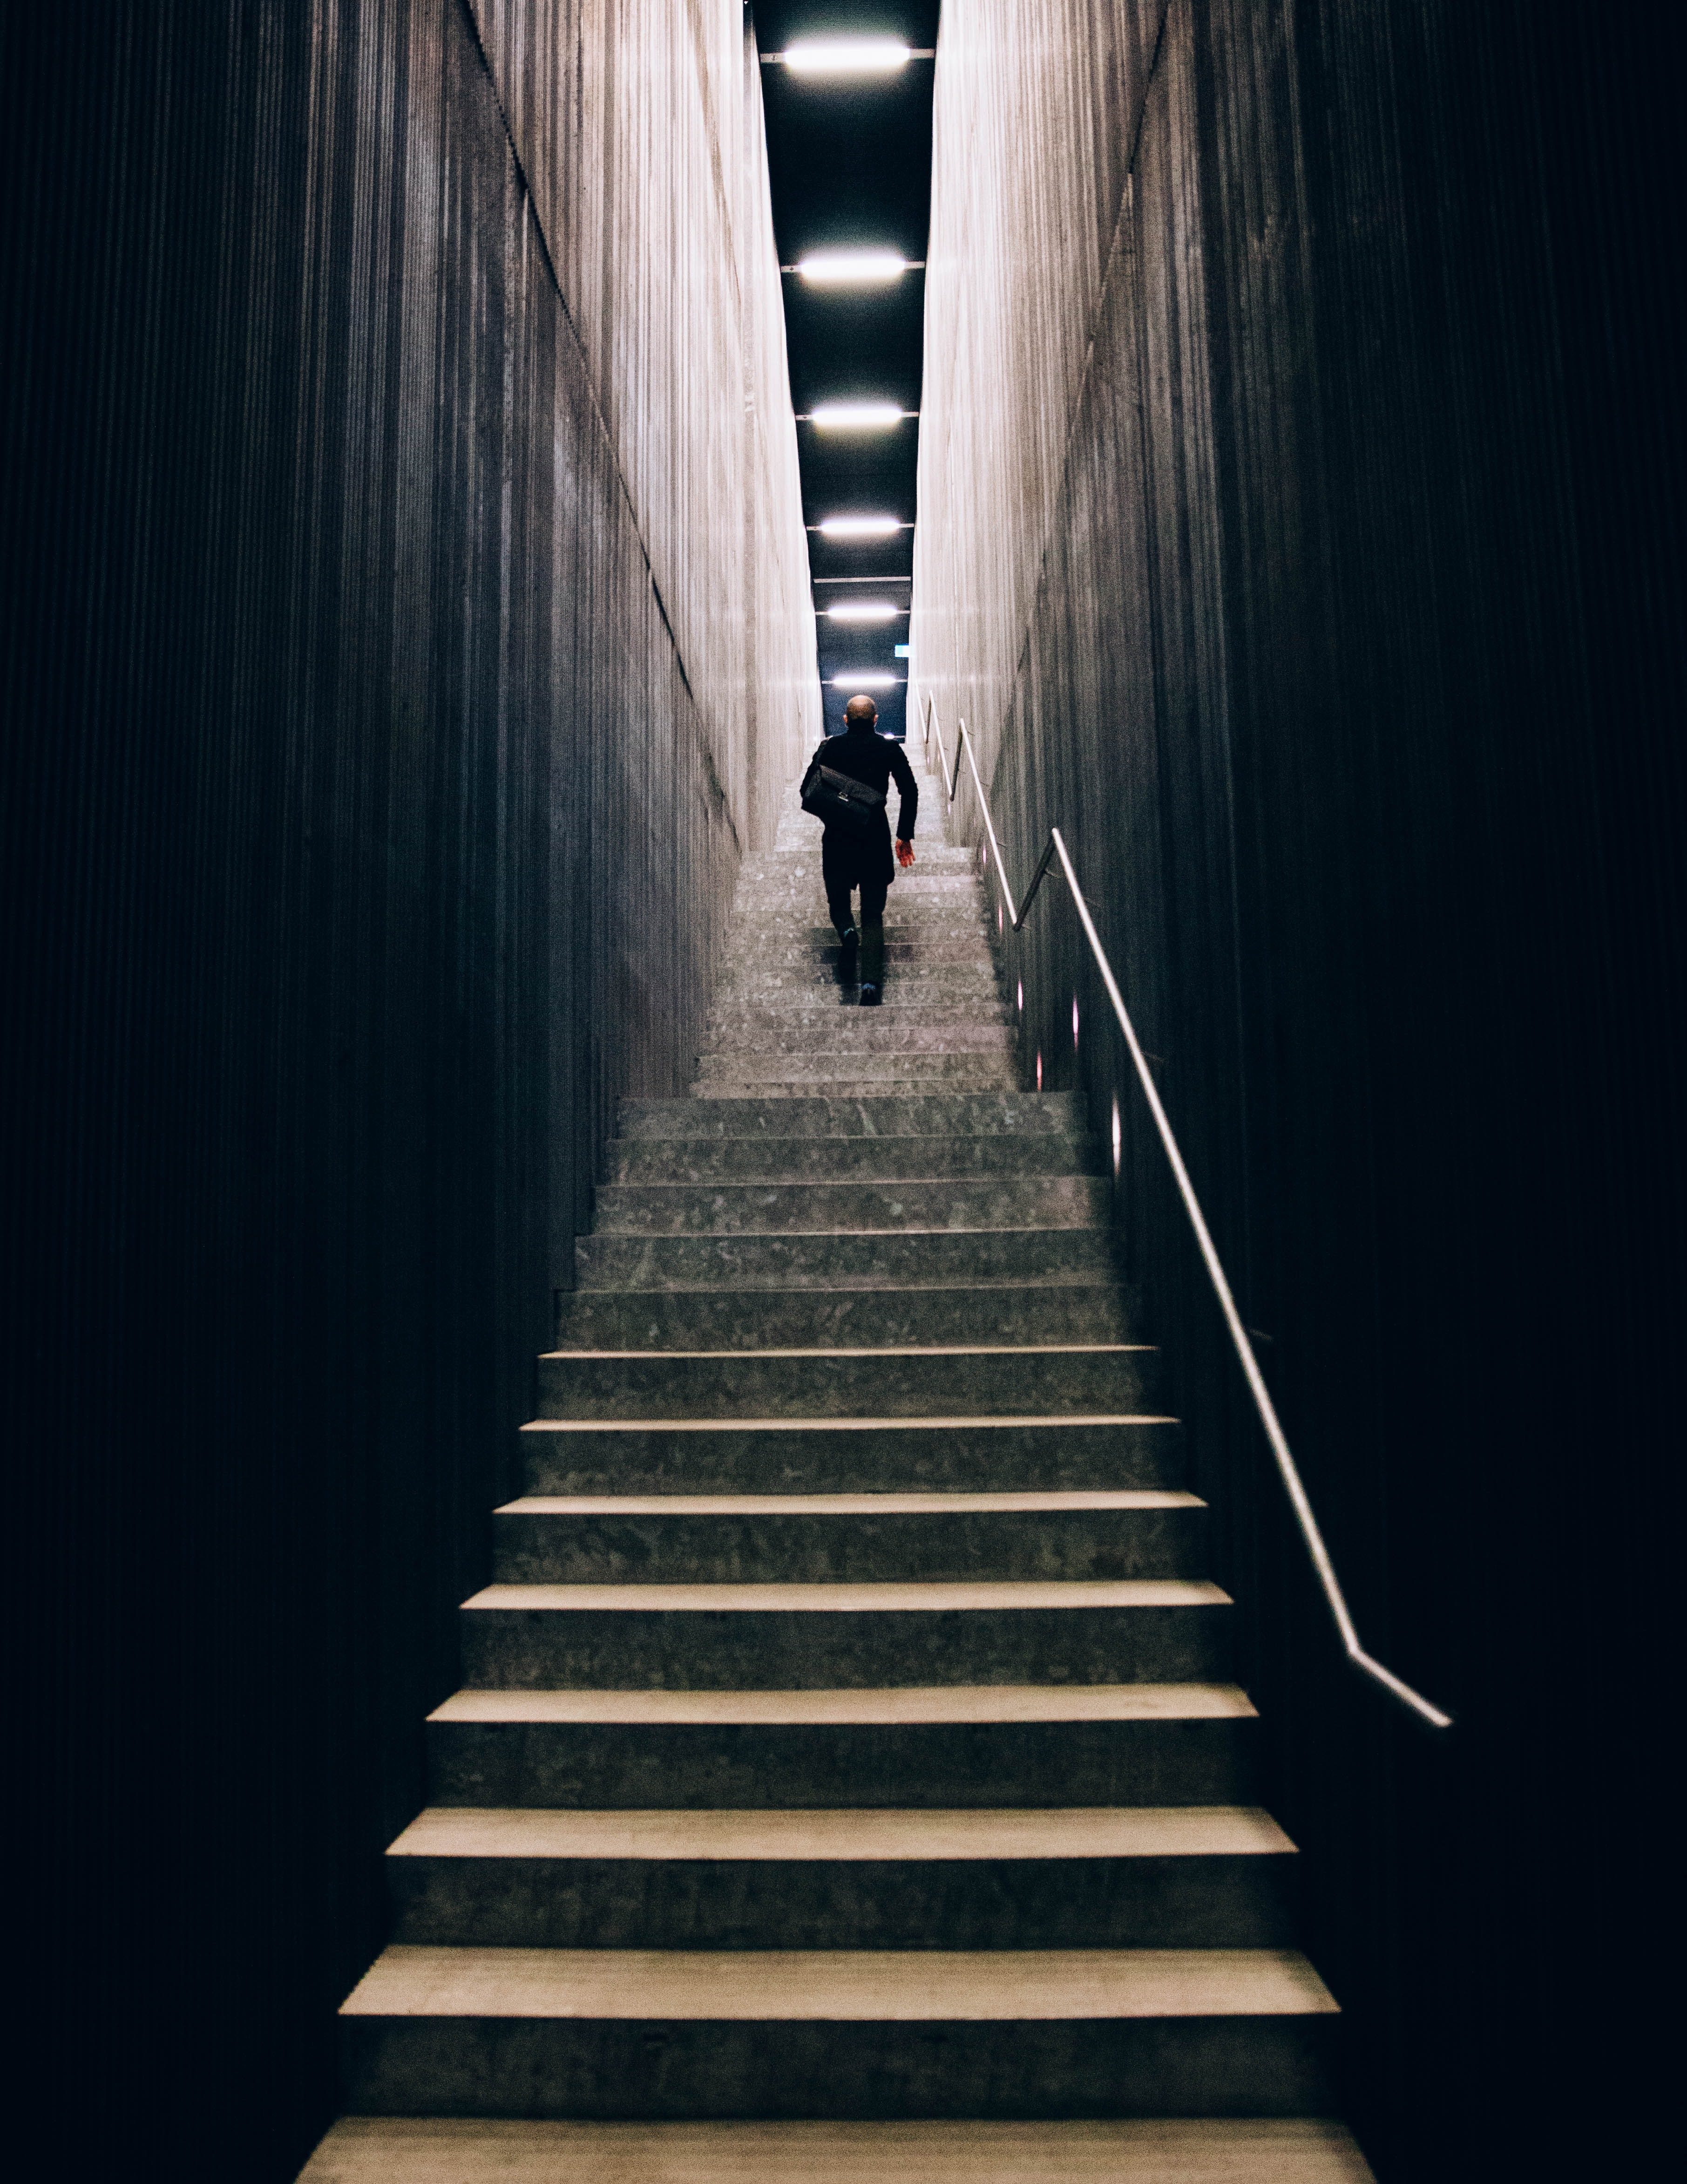upstairs: (501, 1473, 1178, 2166)
